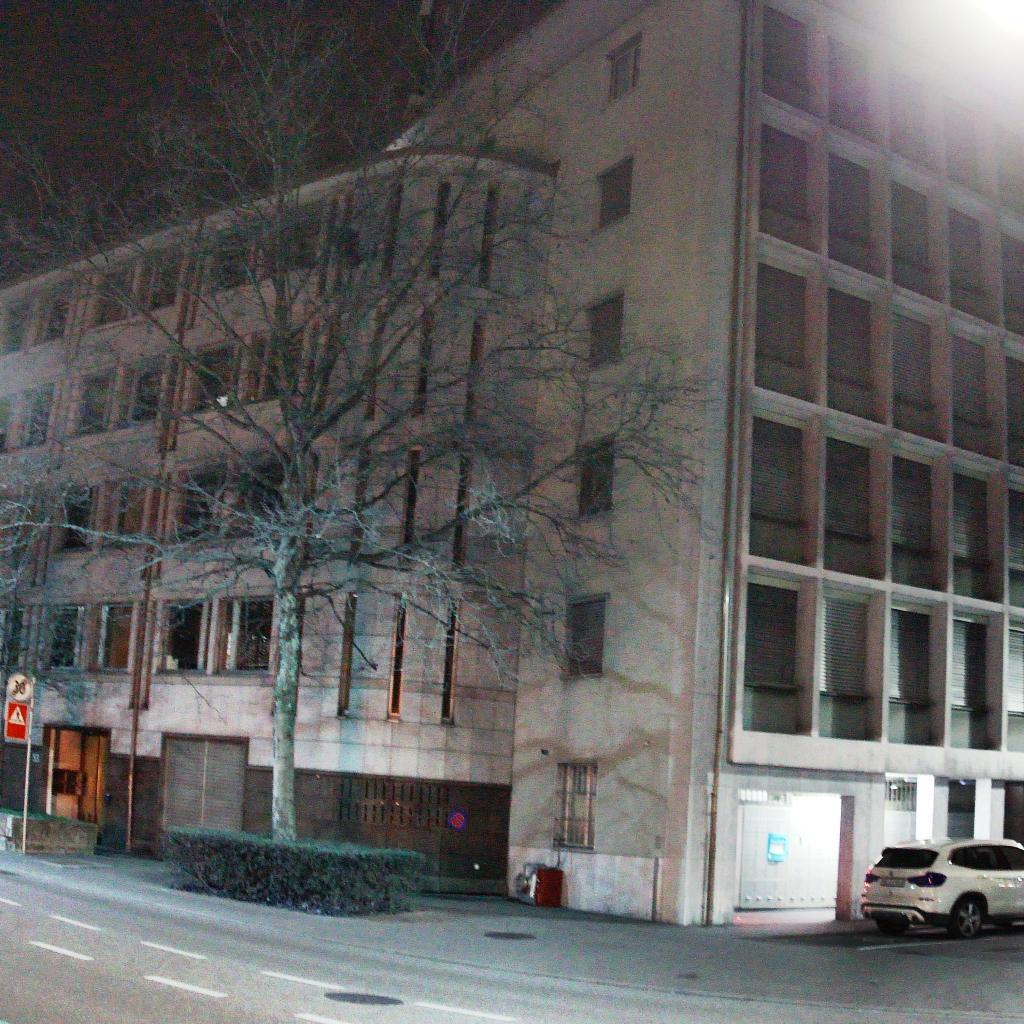car: (858, 836, 1024, 940)
facade: (0, 0, 1024, 943)
street: (0, 846, 1024, 1024)
traffic-infrastructure: (4, 670, 35, 854)
vegetation: (0, 0, 735, 845)
window: (160, 732, 249, 831), (744, 581, 800, 686), (750, 414, 803, 522), (755, 262, 808, 369), (824, 436, 870, 538), (821, 598, 869, 693), (828, 286, 872, 387), (761, 124, 808, 215), (217, 597, 273, 672), (553, 763, 598, 852), (892, 454, 933, 549), (892, 313, 933, 406), (889, 180, 931, 270), (829, 152, 870, 241), (890, 609, 930, 699), (765, 5, 810, 84), (953, 473, 988, 565), (38, 604, 86, 670), (952, 620, 987, 708), (953, 333, 986, 426), (161, 599, 204, 670), (948, 207, 985, 289), (567, 599, 605, 676), (829, 37, 867, 110), (580, 440, 615, 516), (181, 474, 222, 538), (283, 206, 321, 271), (55, 490, 94, 553), (590, 294, 624, 366), (98, 603, 134, 670), (889, 71, 925, 136), (212, 232, 252, 290), (599, 161, 633, 229), (263, 337, 302, 396), (143, 252, 181, 312), (198, 348, 233, 409), (945, 99, 977, 161), (77, 375, 110, 433), (99, 268, 133, 323), (613, 41, 642, 101), (22, 390, 53, 445), (132, 368, 163, 421), (1002, 232, 1024, 306), (39, 291, 71, 341), (996, 126, 1024, 179), (1006, 357, 1024, 432), (1008, 629, 1024, 712), (1009, 487, 1024, 570), (2, 611, 23, 665)
